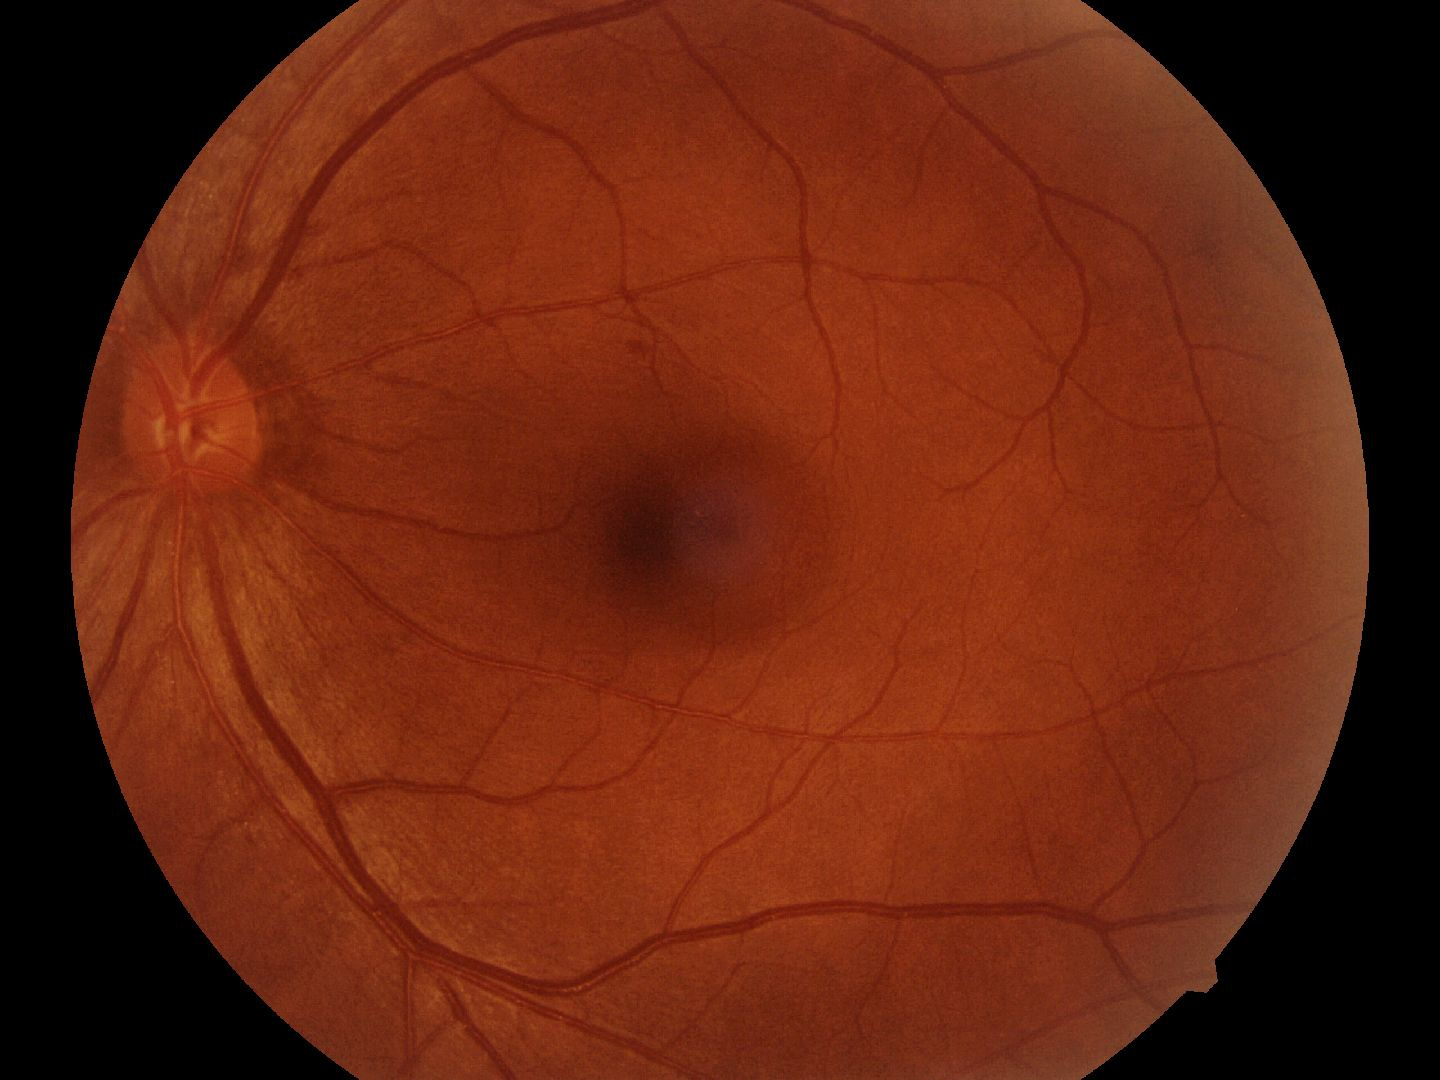Arterioles: (979, 220, 1257, 501)
Hemorrhages: (603, 434, 786, 627)
Optic-Disc: (130, 313, 289, 511)
Venules: (246, 651, 547, 1016), (263, 35, 407, 269)
